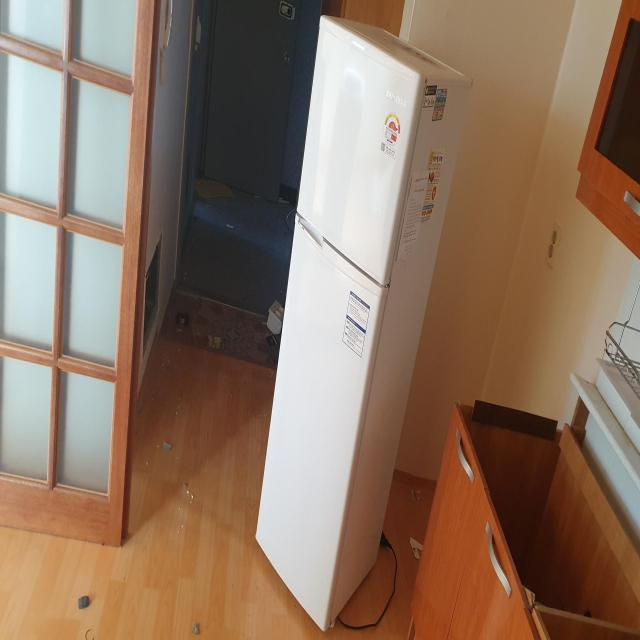refrigerator: (255, 12, 473, 633)
